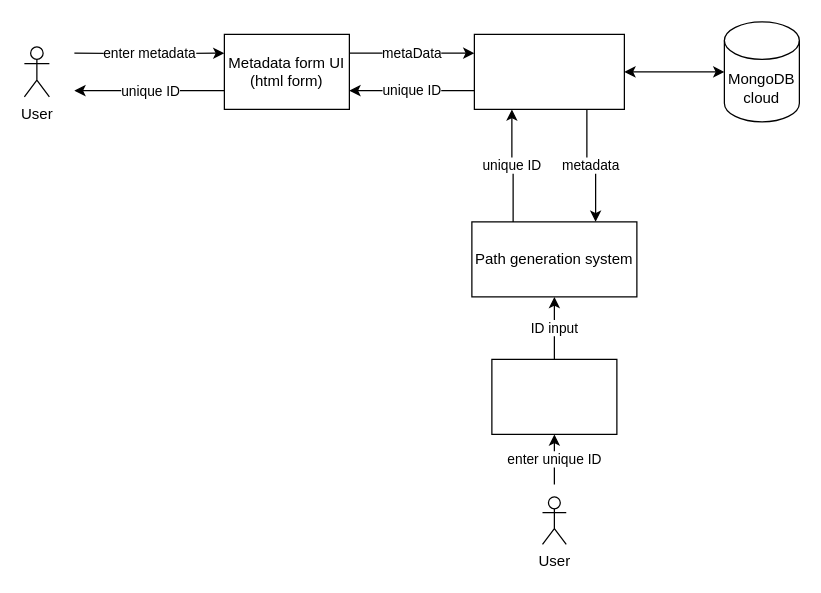
Image size: 821x593. Some labels were removed from this diagram. Here are the shapes that lost their labels. From the top down, the centre of each, then its label:
(548,71): API
(554,396): Unique ID input UI (unity UI)
